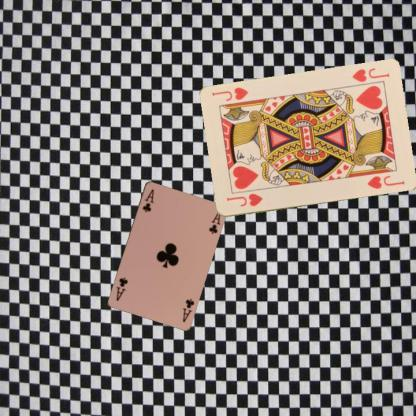Ac: (140, 186, 155, 213), (180, 296, 195, 323)
Jh: (349, 66, 391, 84), (223, 191, 264, 208)
